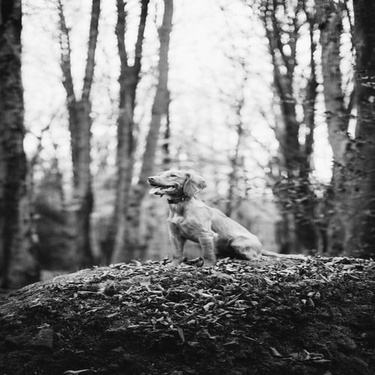dog: (146, 166, 264, 269)
